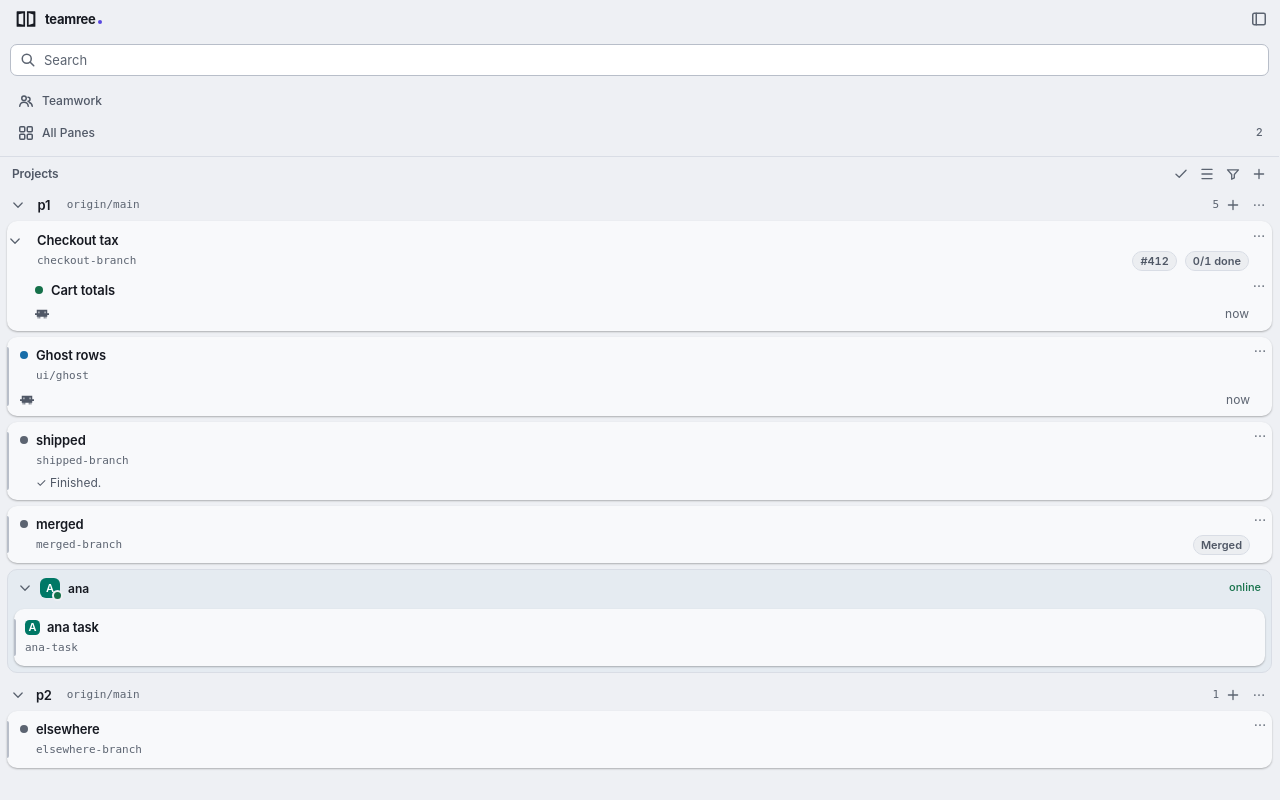
Compact › draws each row on one line, without its pane rows or branch line
The width and height of the screenshot is (1280, 800).
expect the 2nd list item "now" is shown: met, box [14, 389, 1256, 411]
expect the element with class "worktree__meta" showing "ui/ghost" is shown: met, box [36, 369, 89, 382]
Click the button named "Compact".
click(1207, 174)  # box [1195, 162, 1219, 186]
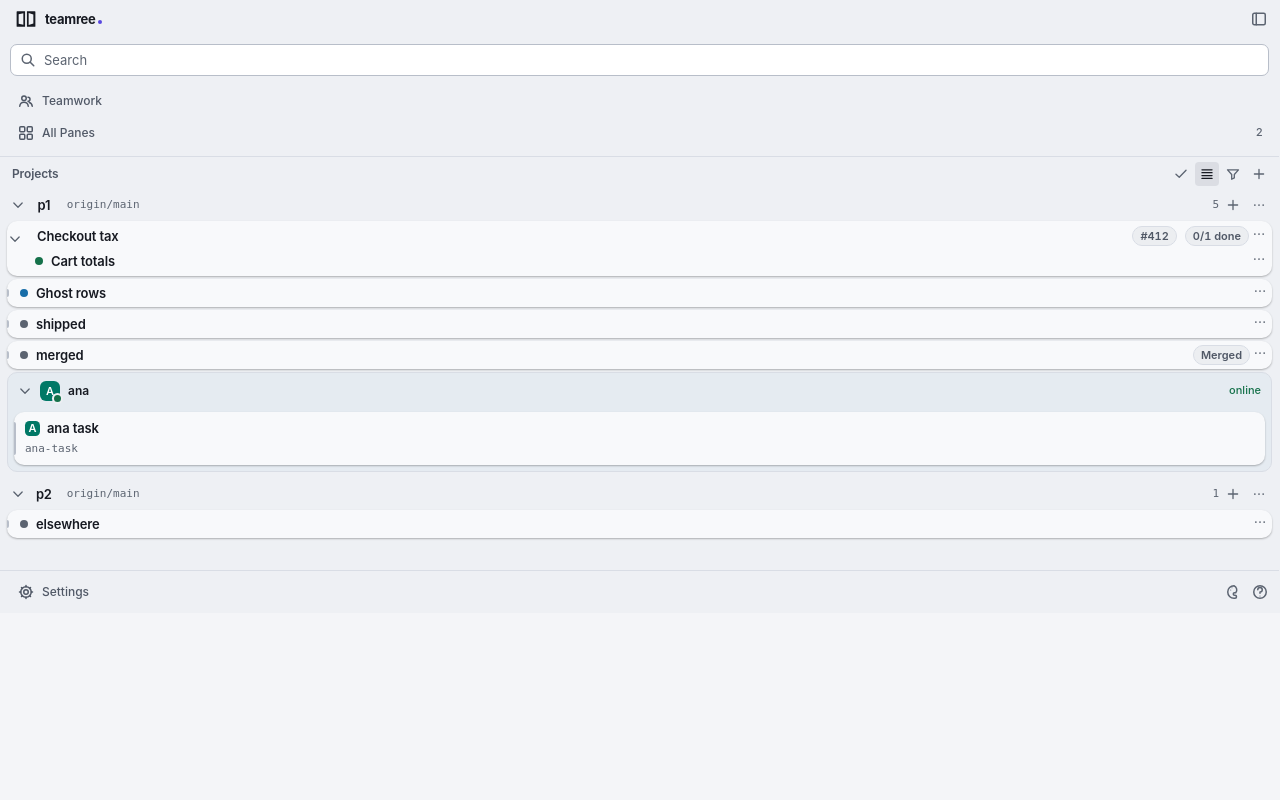
expect the list item "now" is gone: met
expect the text "checkout-branch #412 0/1 done" is gone: met
expect the text with class "worktree__report" is gone: met
